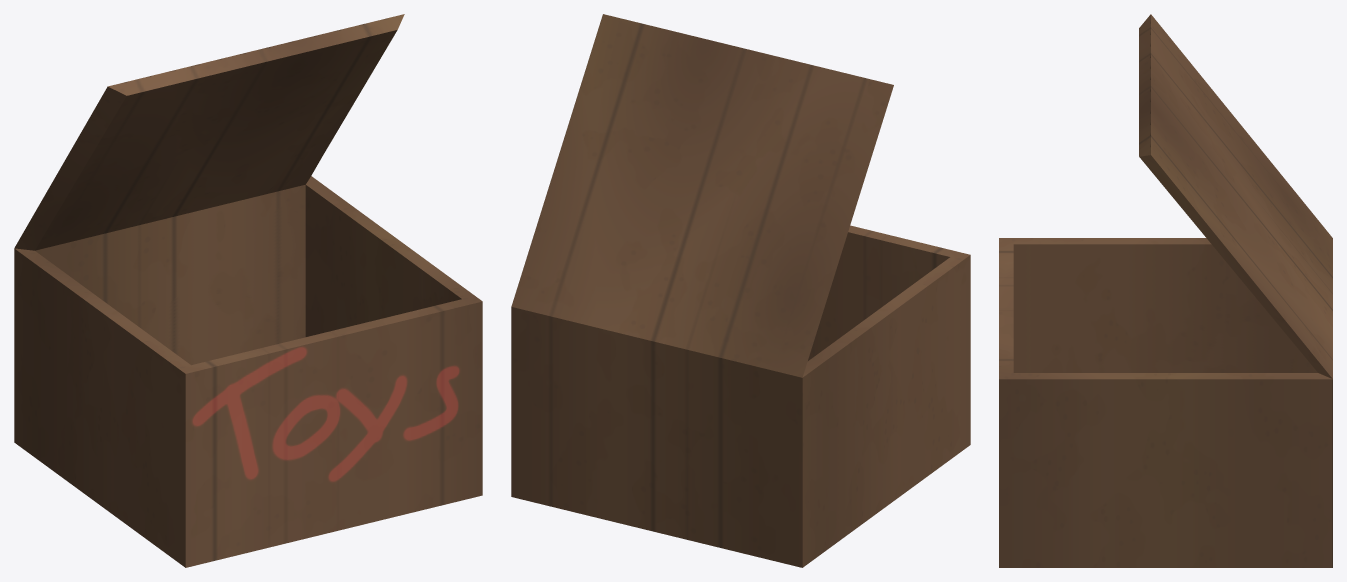
File: ToyBox.fbx
3 views of the same model, side by side, from view 1: azimuth 30°, elevation 25°; view 2: azimuth 150°, elevation 25°; view 3: azimuth 270°, elevation 25° (orthographic). The views are drawn at different scales.
Parts seen in each view (by area): view 1: Cube; view 2: Cube; view 3: Cube.
Part boxes in pixels (x1=…): Cube: x1=14, y1=14, x2=482, y2=567; Cube: x1=511, y1=14, x2=970, y2=567; Cube: x1=999, y1=14, x2=1332, y2=567.
Size of the model in its own units: 200 by 273 by 200.
Materials: 1 (1 with a texture image).
